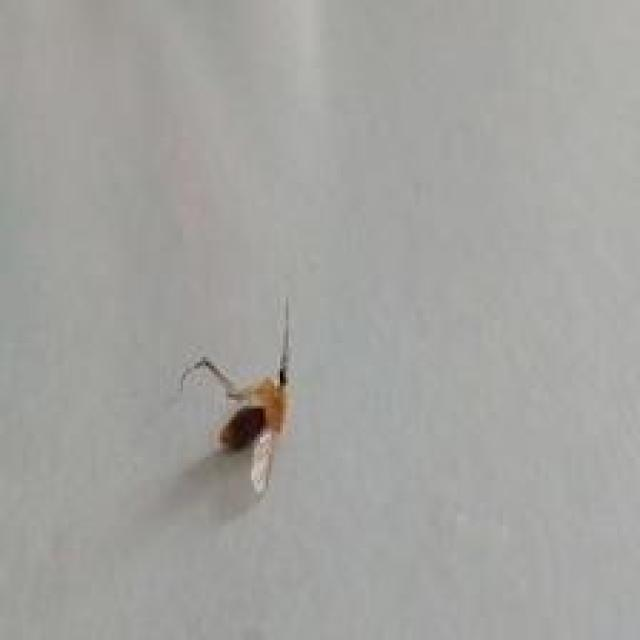Culex: (177, 294, 294, 497)
